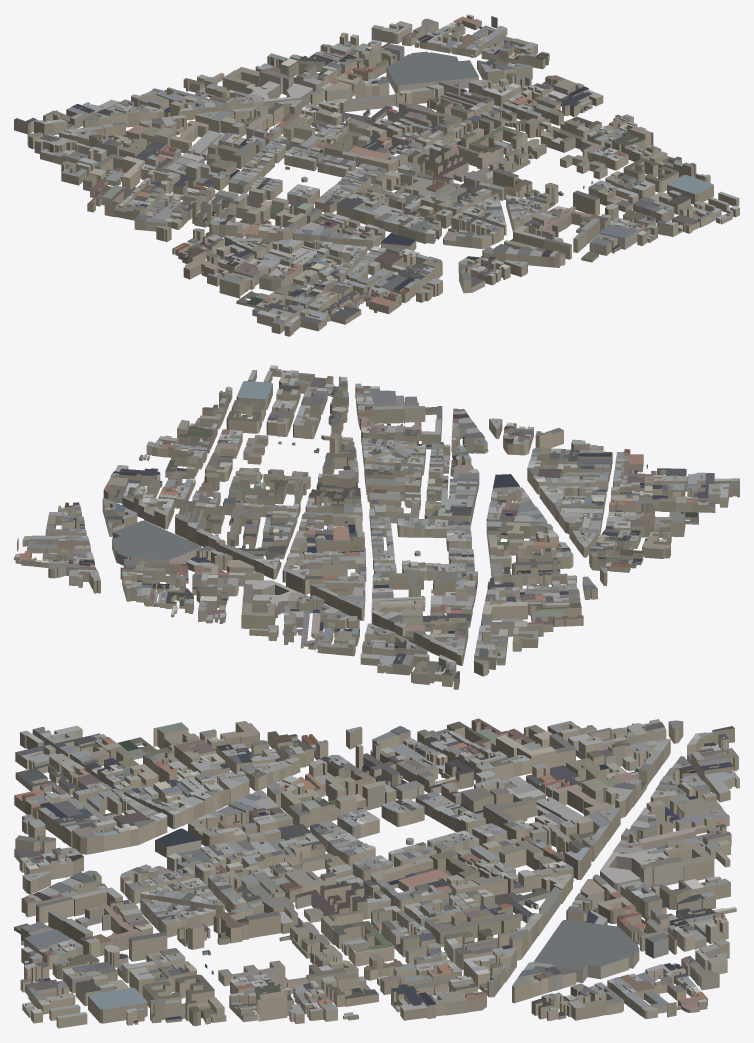
3 renders of one model, top to bottom at view 1: azimuth 30°, elevation 25°; view 2: azimuth 150°, elevation 25°; view 3: azimuth 270°, elevation 25°, orthographic. The views are drawn at different scales.
Visible parts, largest first — view 1: tuile; view 2: tuile; view 3: tuile.
Part boxes in pixels (box(x1,y1,x2,y2)): tuile: box(14, 14, 739, 336); tuile: box(14, 365, 739, 689); tuile: box(14, 718, 739, 1028).
Bounding box in the file's own units: 1042 × 56.86 × 1038.
